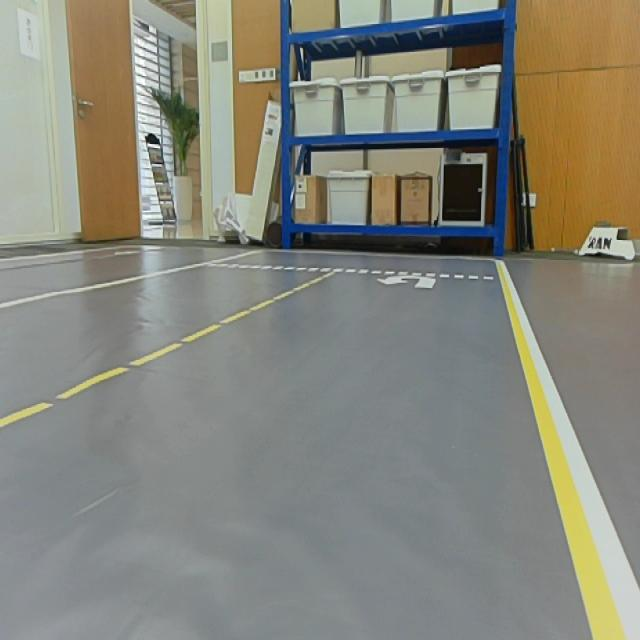left_lane: (0, 271, 331, 434)
right_lane: (498, 262, 640, 640), (0, 249, 257, 312)
